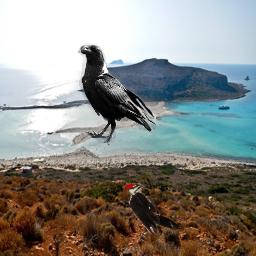Crow: (77, 43, 156, 143)
Woodpecker: (122, 183, 184, 237)
